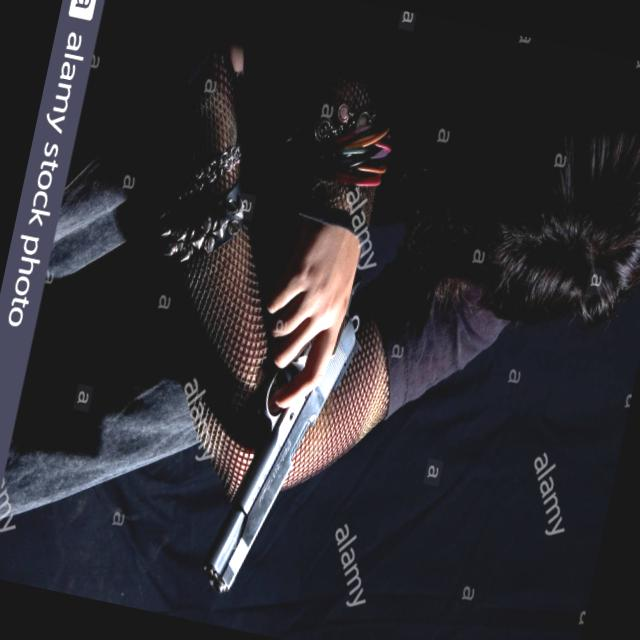handgun: (187, 238, 373, 610)
